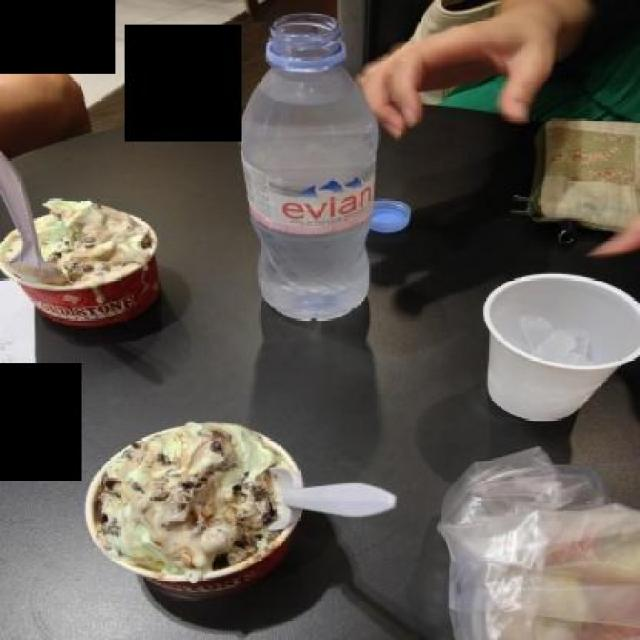plastic bag: (437, 444, 638, 638)
